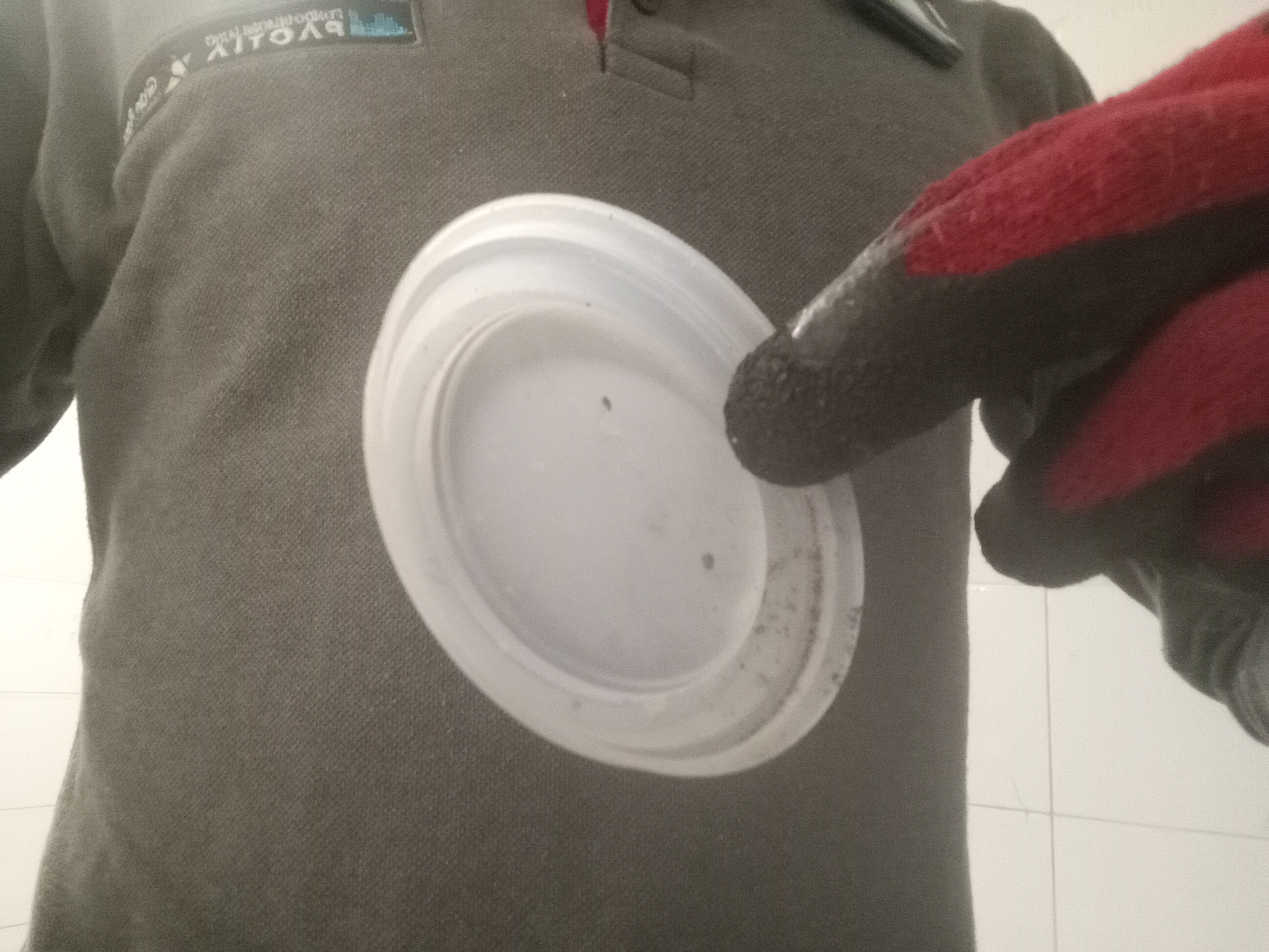Ordinario: (360, 194, 867, 782)
